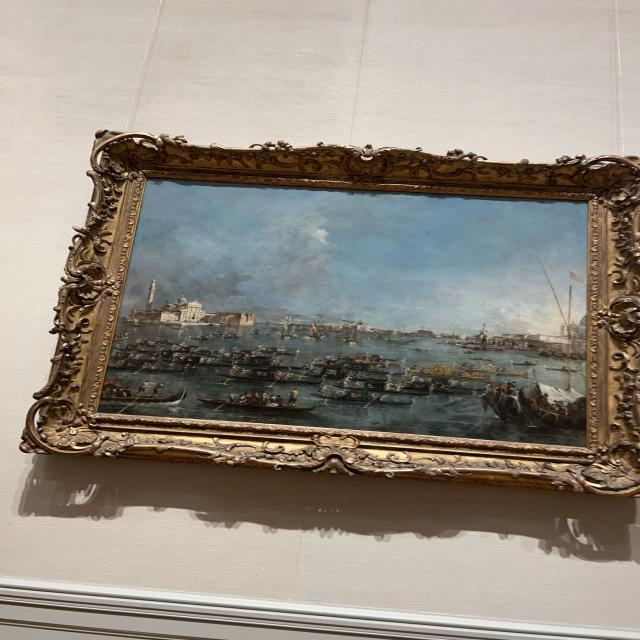ships: (99, 176, 590, 444)
